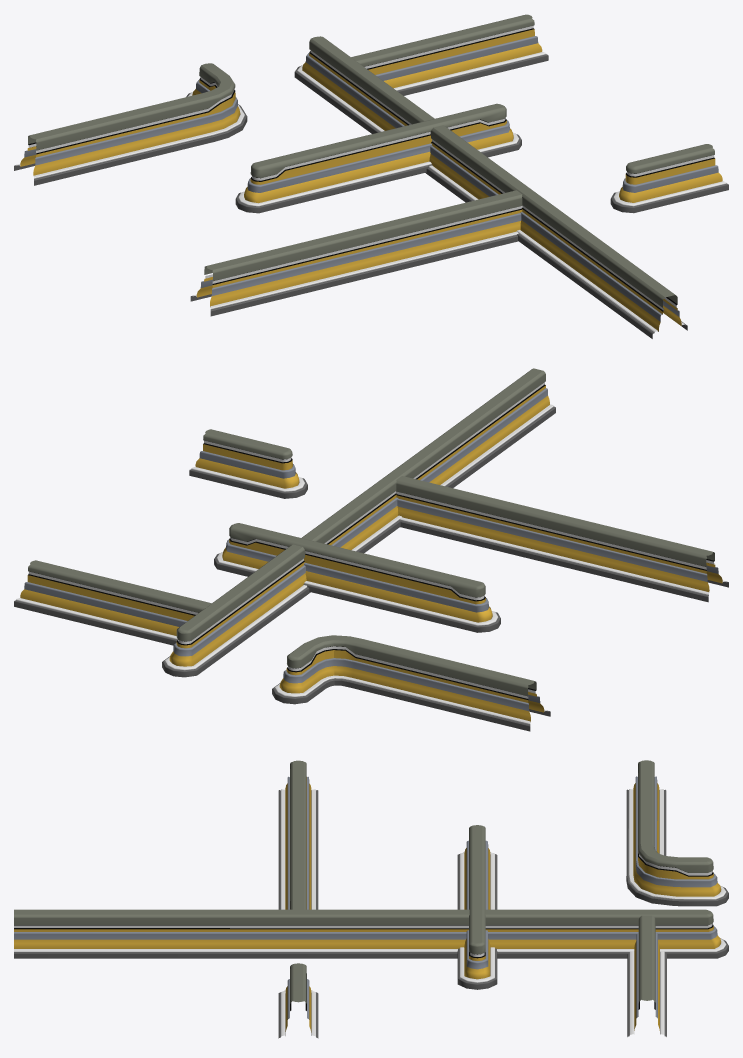
The model's file is Level25_Small_walls.fbx.
The picture shows the model from 3 angles, top to bottom: view 1: azimuth 30°, elevation 25°; view 2: azimuth 150°, elevation 25°; view 3: azimuth 270°, elevation 25°; orthographic projection. The views are drawn at different scales.
Visible parts, largest first — view 1: Small_wall_L38, Small_wall_L2, Small_wallv1_19, Small_wall_L40, Small_wallv2_17, Small_wallv2_16; view 2: Small_wall_L38, Small_wall_L2, Small_wall_L40, Small_wallv1_19, Small_wallv2_17, Small_wallv2_16; view 3: Small_wall_L38, Small_wall_L40, Small_wall_L2, Small_wallv1_19, Small_wallv2_17, Small_wallv2_16.
Boxes of the visible parts, x1,y1,x2,y2 form: Small_wall_L38: (294, 36, 687, 338); Small_wall_L2: (190, 190, 522, 316); Small_wallv1_19: (235, 103, 521, 213); Small_wall_L40: (14, 63, 247, 185); Small_wallv2_17: (351, 14, 548, 95); Small_wallv2_16: (610, 144, 728, 213); Small_wall_L38: (162, 368, 555, 677); Small_wall_L2: (396, 476, 728, 602); Small_wall_L40: (272, 635, 550, 731); Small_wallv1_19: (214, 523, 500, 632); Small_wallv2_17: (14, 560, 211, 645); Small_wallv2_16: (189, 429, 307, 498); Small_wall_L38: (14, 909, 728, 958); Small_wall_L40: (626, 760, 728, 906); Small_wall_L2: (278, 760, 318, 909); Small_wallv1_19: (457, 825, 497, 989); Small_wallv2_17: (627, 915, 666, 1036); Small_wallv2_16: (278, 963, 318, 1038).
Bounding box in the file's own units: 509 × 39.31 × 620.
